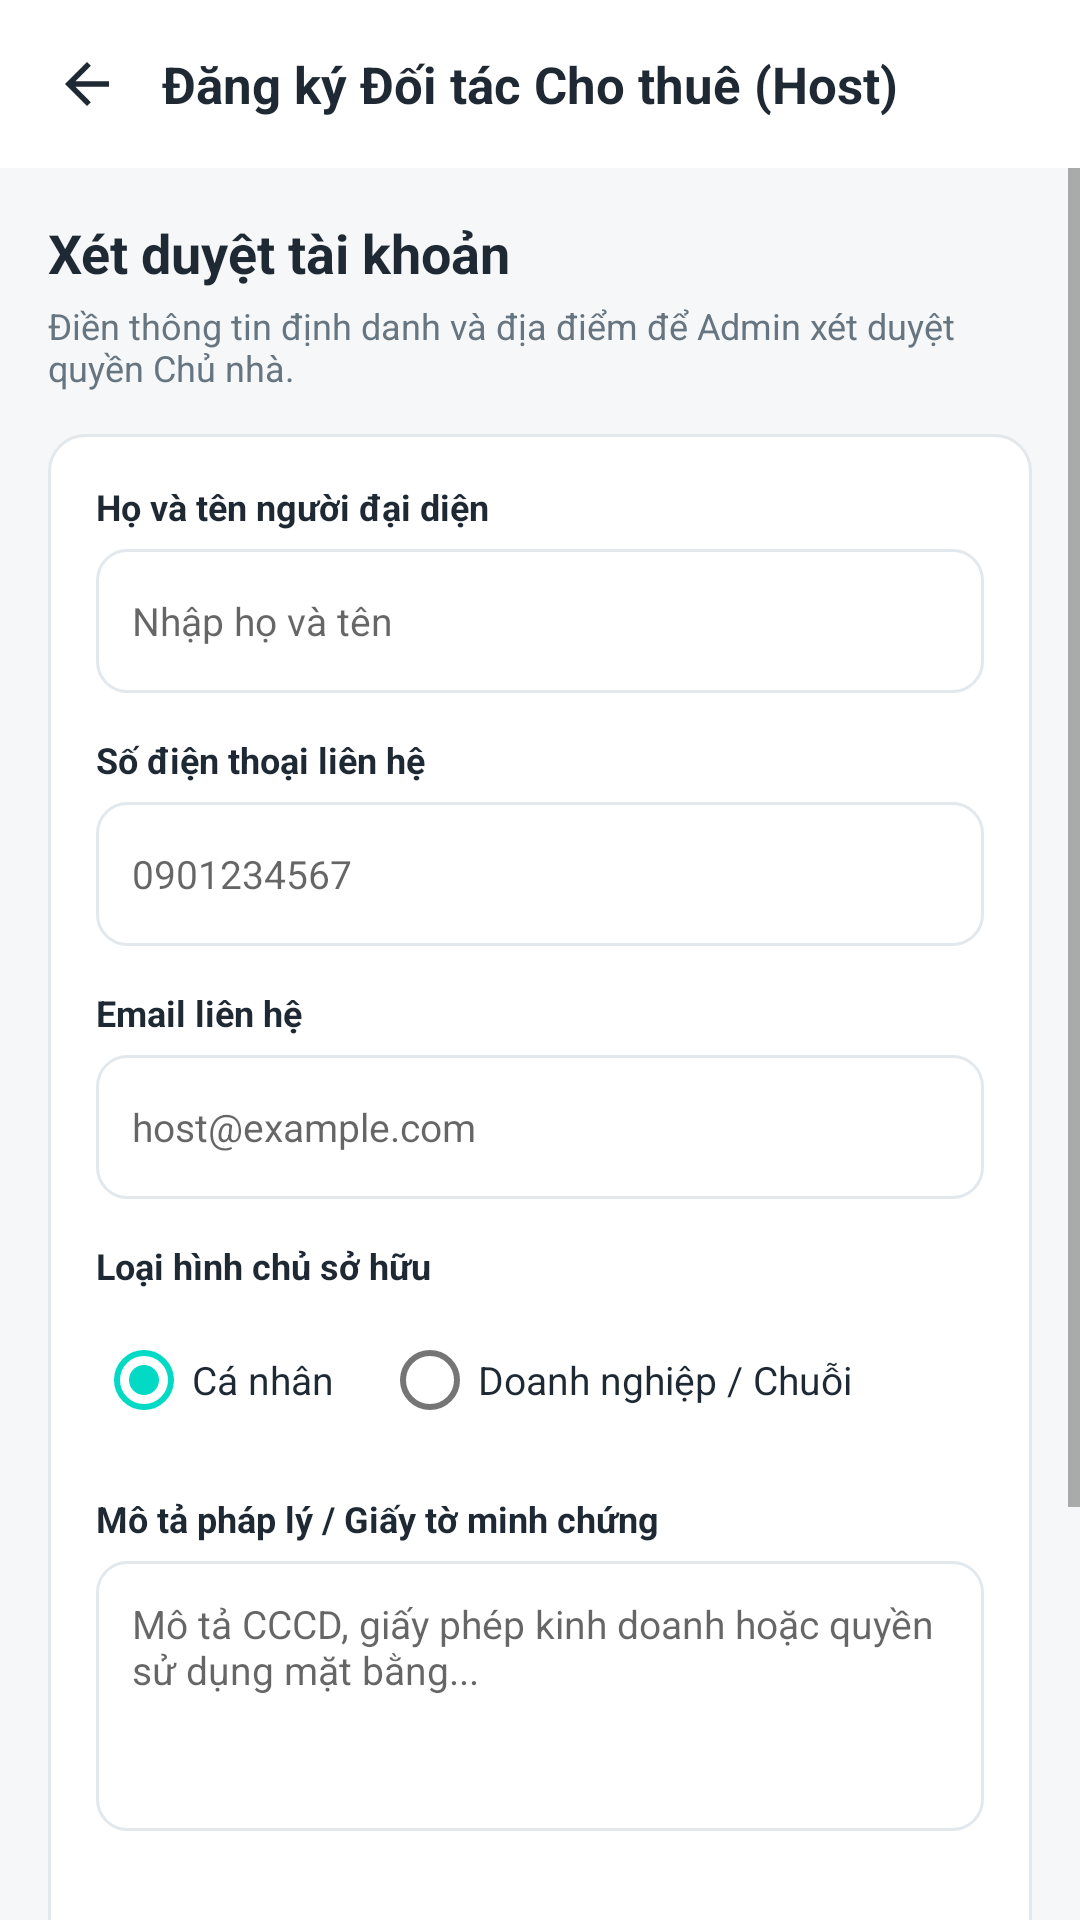

Where to tap for icons on this 1080px×1920px app screen, as (x,y):
Quay lại: (87,84)
